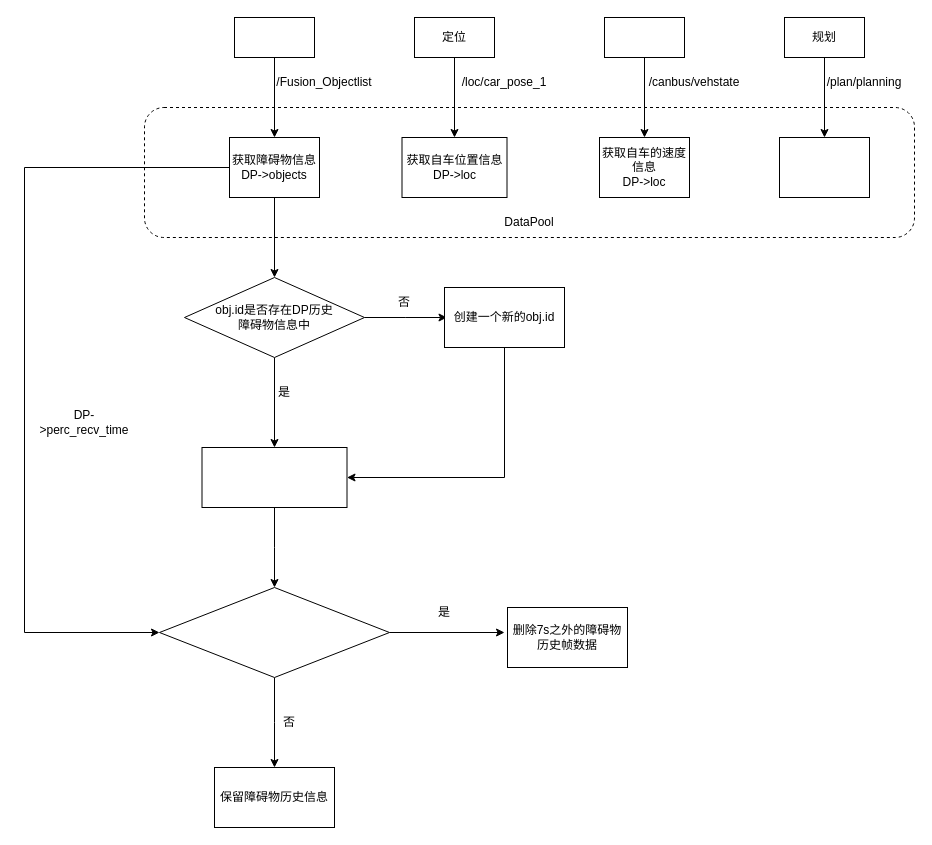
This 932x845 diagram has some shape labels left out. The shapes that lost their labels are listed below. From the top down, each one's centre as x and y in pixels, then its label:
the point at 274,37: 感知
the point at 644,37: 控制
the point at 824,167: 获取上一帧规划的轨迹 DP->path
the point at 274,477: 障碍物历史信息 DP->perception_history
the point at 274,632: 根据当前时间对历史障碍物 信息进行判断，历史障碍物 是否存在7s以上
